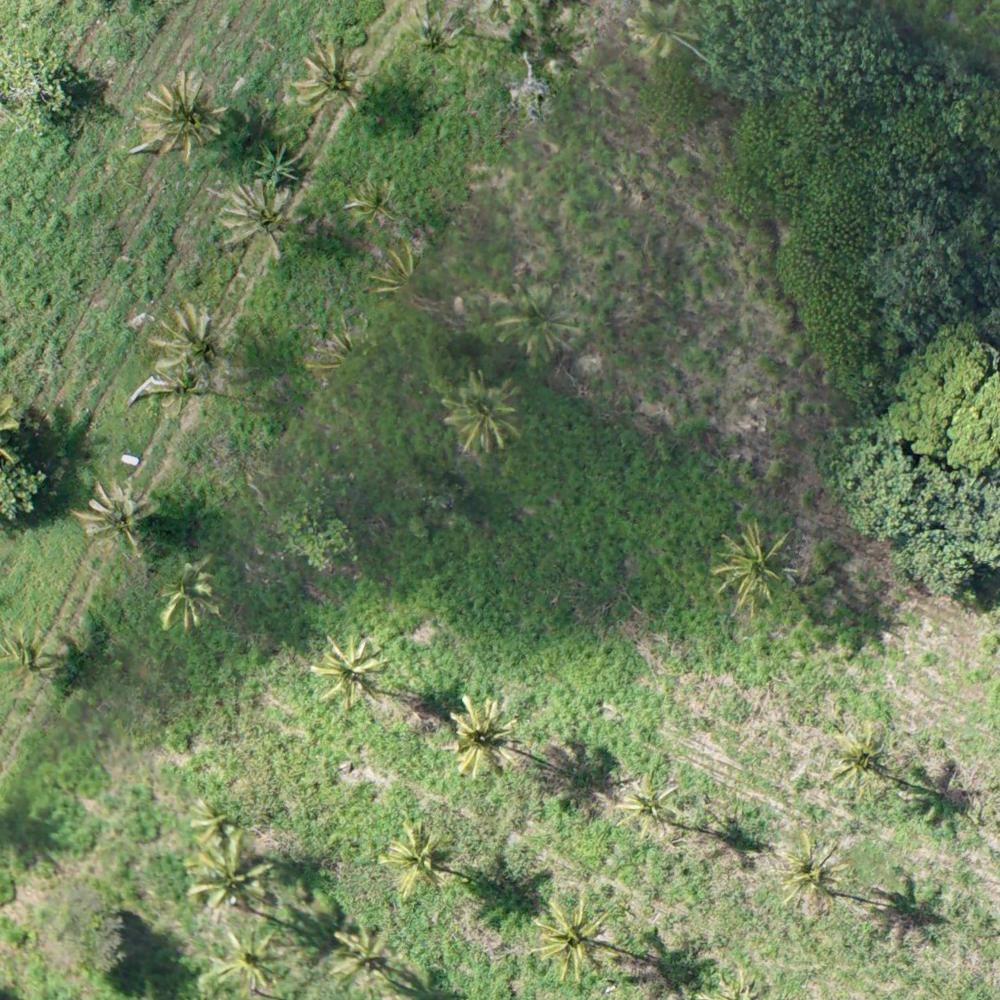Palm: (138, 75, 221, 159), (530, 889, 609, 974), (186, 835, 271, 913), (211, 919, 293, 997), (153, 301, 230, 384), (438, 372, 520, 448), (716, 526, 791, 608), (497, 282, 580, 356), (223, 178, 301, 256), (773, 833, 852, 910), (379, 816, 453, 895), (448, 693, 519, 775), (331, 913, 402, 992), (315, 633, 387, 708), (80, 480, 158, 547), (293, 42, 366, 112), (615, 771, 686, 839), (828, 723, 896, 792), (159, 565, 226, 633), (346, 178, 401, 229)
